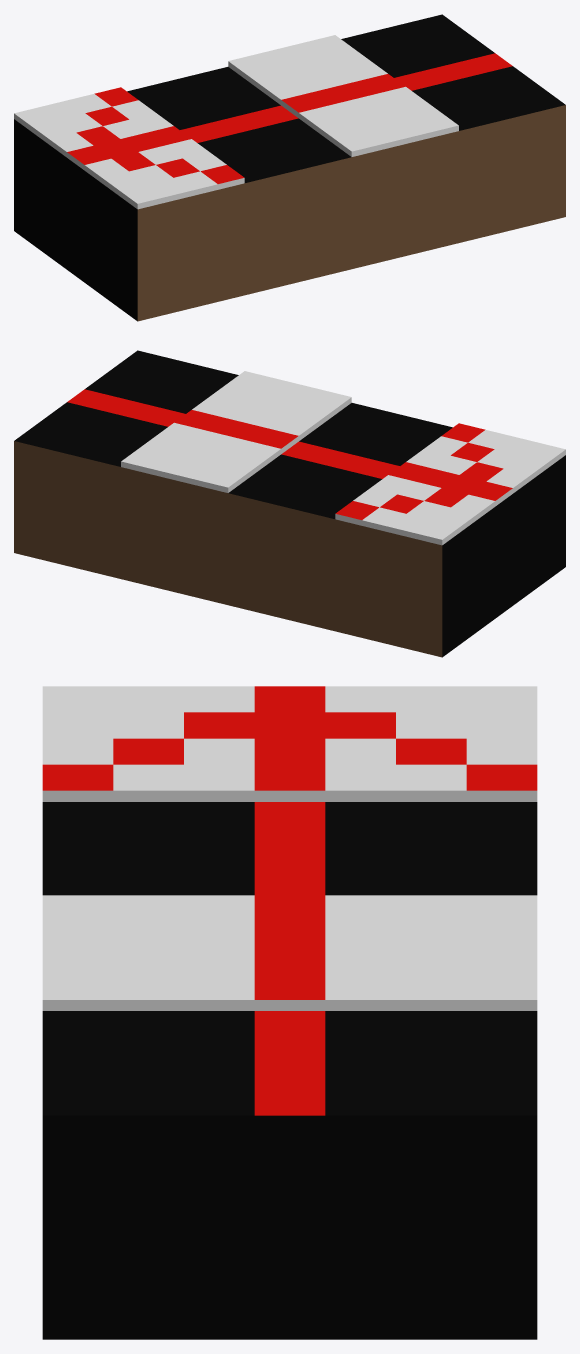
The model's file is SimpleBeltV3.fbx.
3 views of the same model, one above another, from view 1: azimuth 30°, elevation 25°; view 2: azimuth 150°, elevation 25°; view 3: azimuth 270°, elevation 25° (orthographic). The views are drawn at different scales.
Parts seen in each view (by area): view 1: Cube; view 2: Cube; view 3: Cube.
Part boxes in pixels (box(x1,y1,x2,y2)): Cube: box(14, 14, 565, 321); Cube: box(14, 350, 565, 657); Cube: box(42, 686, 537, 1339).
Size of the model in its own units: 200 by 52.5 by 100.
